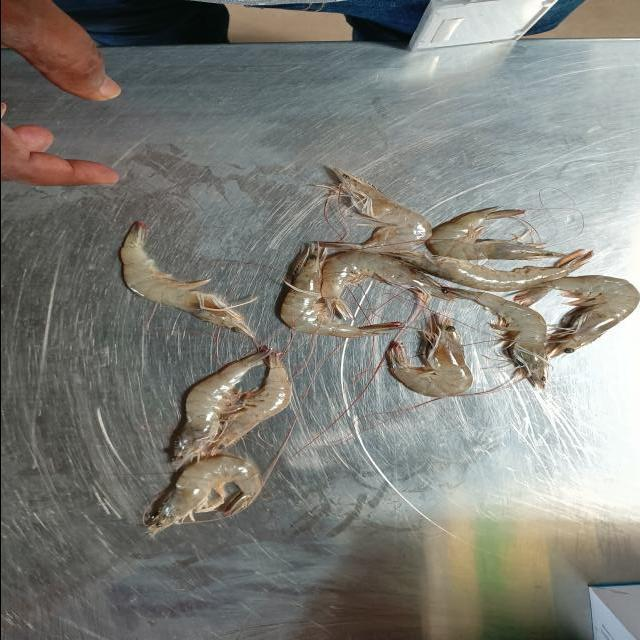shrimp: (120, 221, 253, 338), (173, 350, 275, 468), (279, 248, 401, 338), (514, 275, 640, 358), (445, 288, 547, 389), (315, 168, 432, 252), (146, 454, 261, 536), (319, 251, 454, 319), (383, 250, 594, 291), (211, 351, 290, 454), (425, 208, 567, 260), (385, 314, 472, 398)
